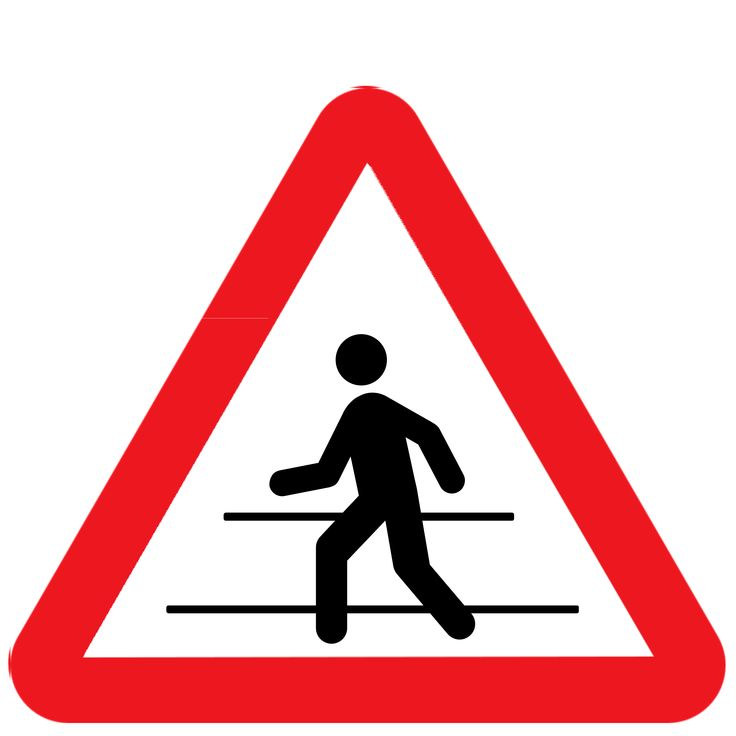CrossSign: (9, 85, 730, 728)
